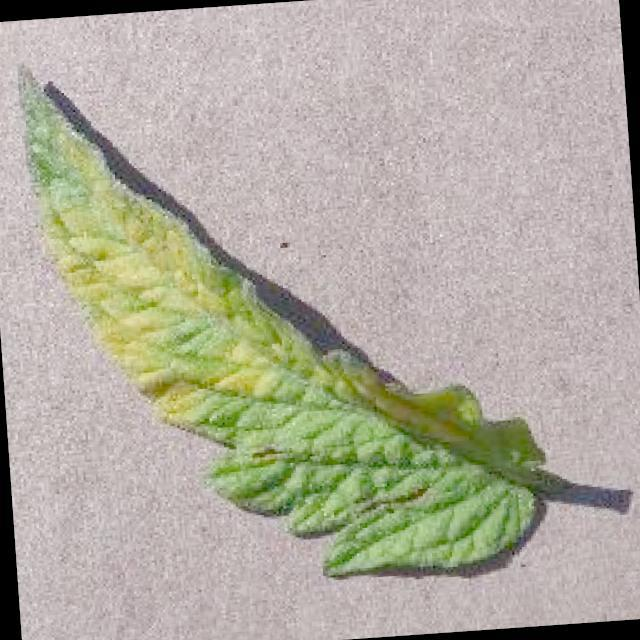Tomato mold leaf: (13, 22, 554, 602)
